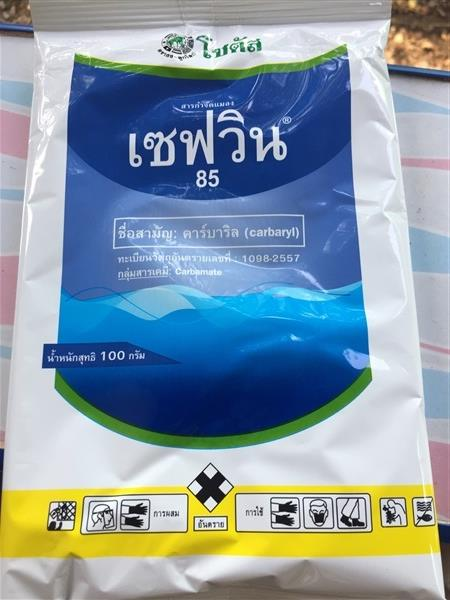Insecticide: (1, 1, 450, 600)
